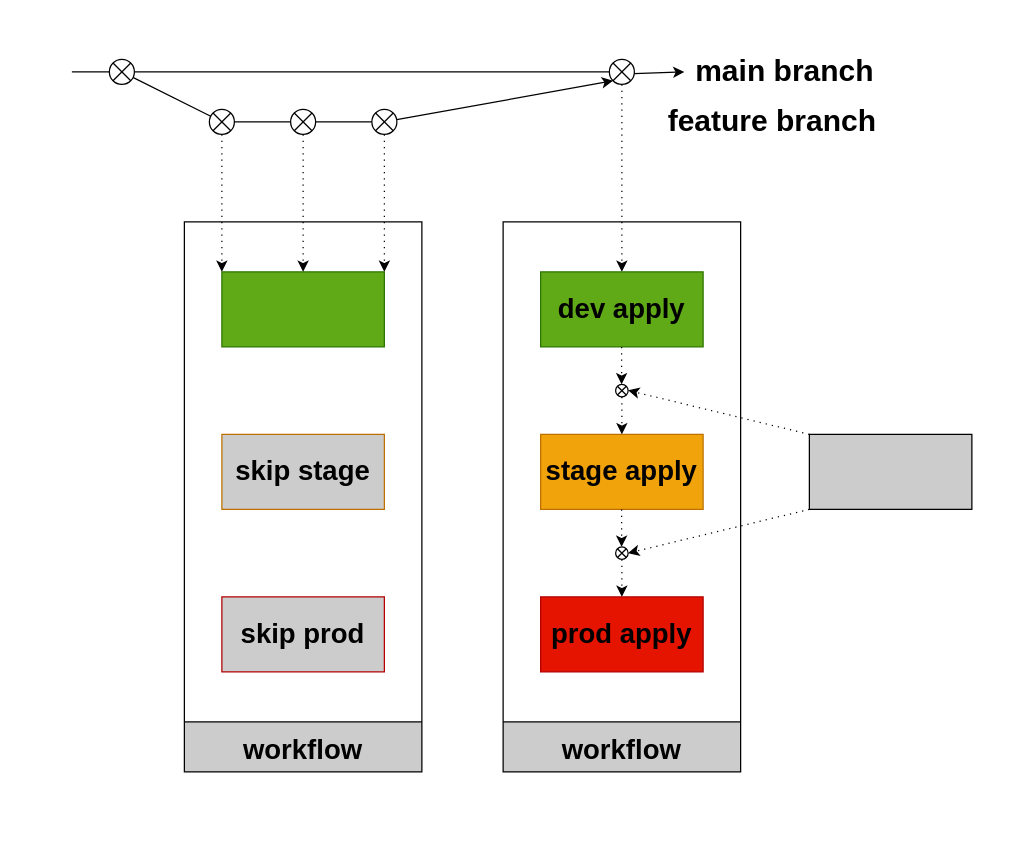
The diagram is 1031 pixels wide and 844 high, and some of its shapes have lost their labels. The centre of each missing label's shape, as x and y in pixels:
Deployment review: [890,471]
dev plan: [302,309]
